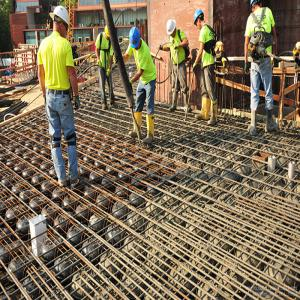blue: (193, 8, 205, 30), (130, 29, 142, 50)
none: (251, 2, 264, 13)
white: (54, 6, 71, 36), (167, 20, 177, 37)
yellow: (105, 26, 113, 42)
